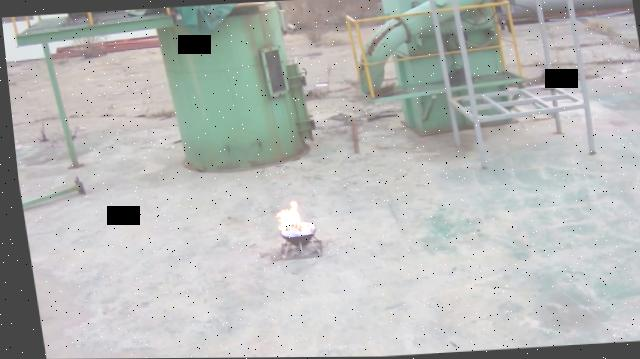fire: (270, 200, 298, 233)
